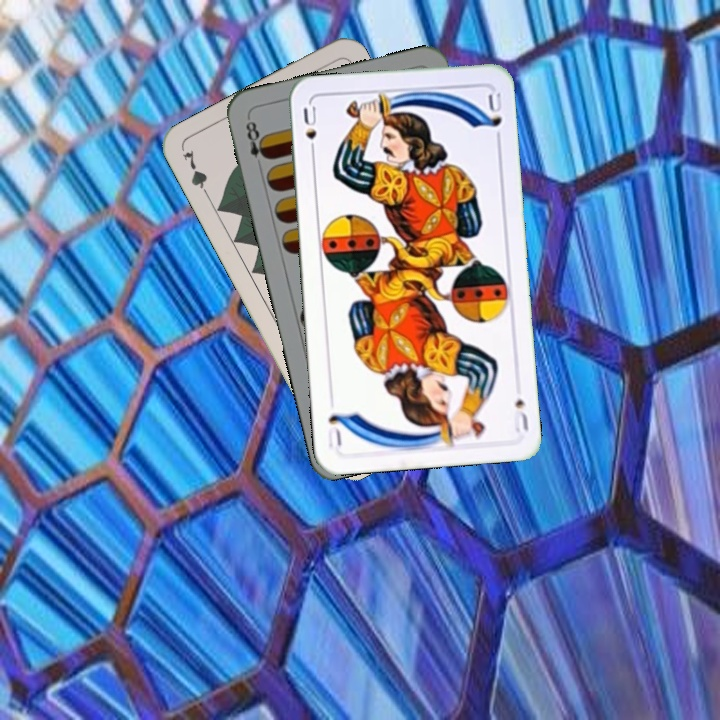E8: (241, 114, 271, 172)
G7: (178, 145, 213, 202)
SU: (299, 102, 319, 160), (509, 394, 531, 435)
